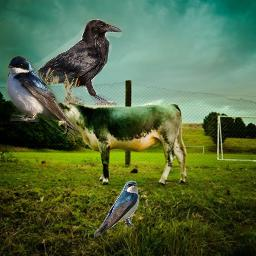Crow: (6, 19, 122, 106)
Swallow: (5, 55, 82, 142), (92, 179, 140, 238)
